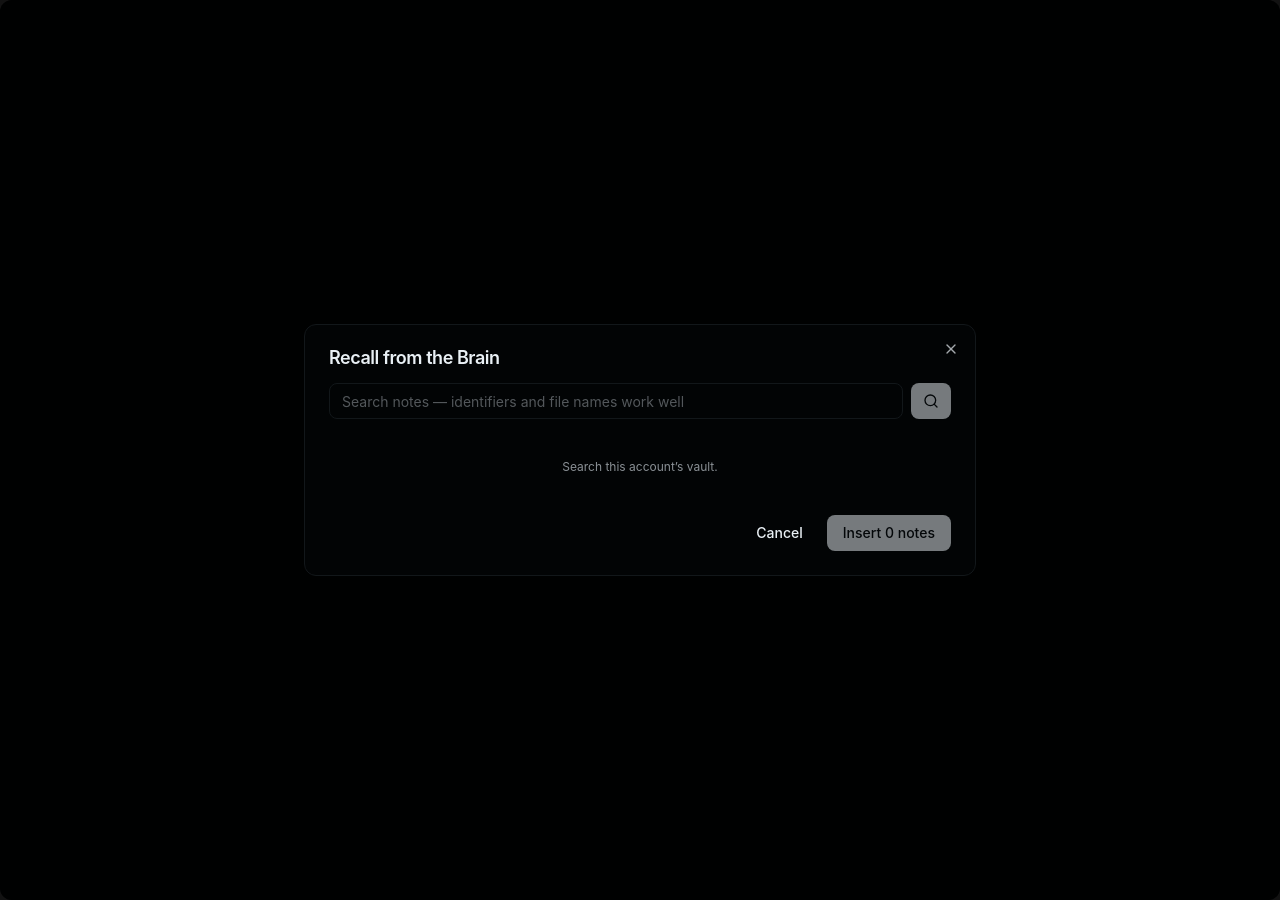
Test: RecallDialog › searches only the account it was given
The width and height of the screenshot is (1280, 900).
In the field named "Search the Brain": (616, 401) [329,383,903,419], type "drain"
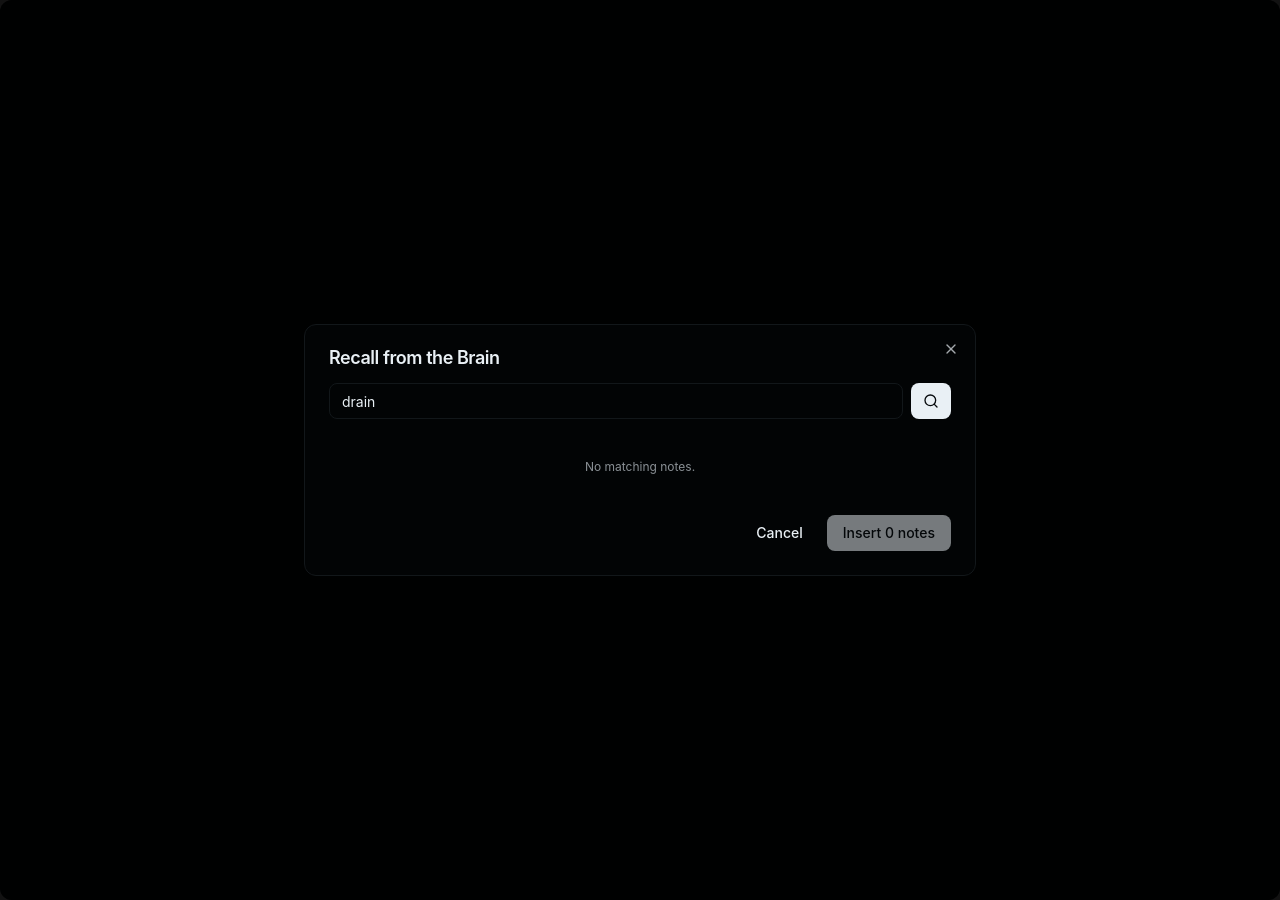
Submit the form named "Search the Brain", box [329,383,951,419]
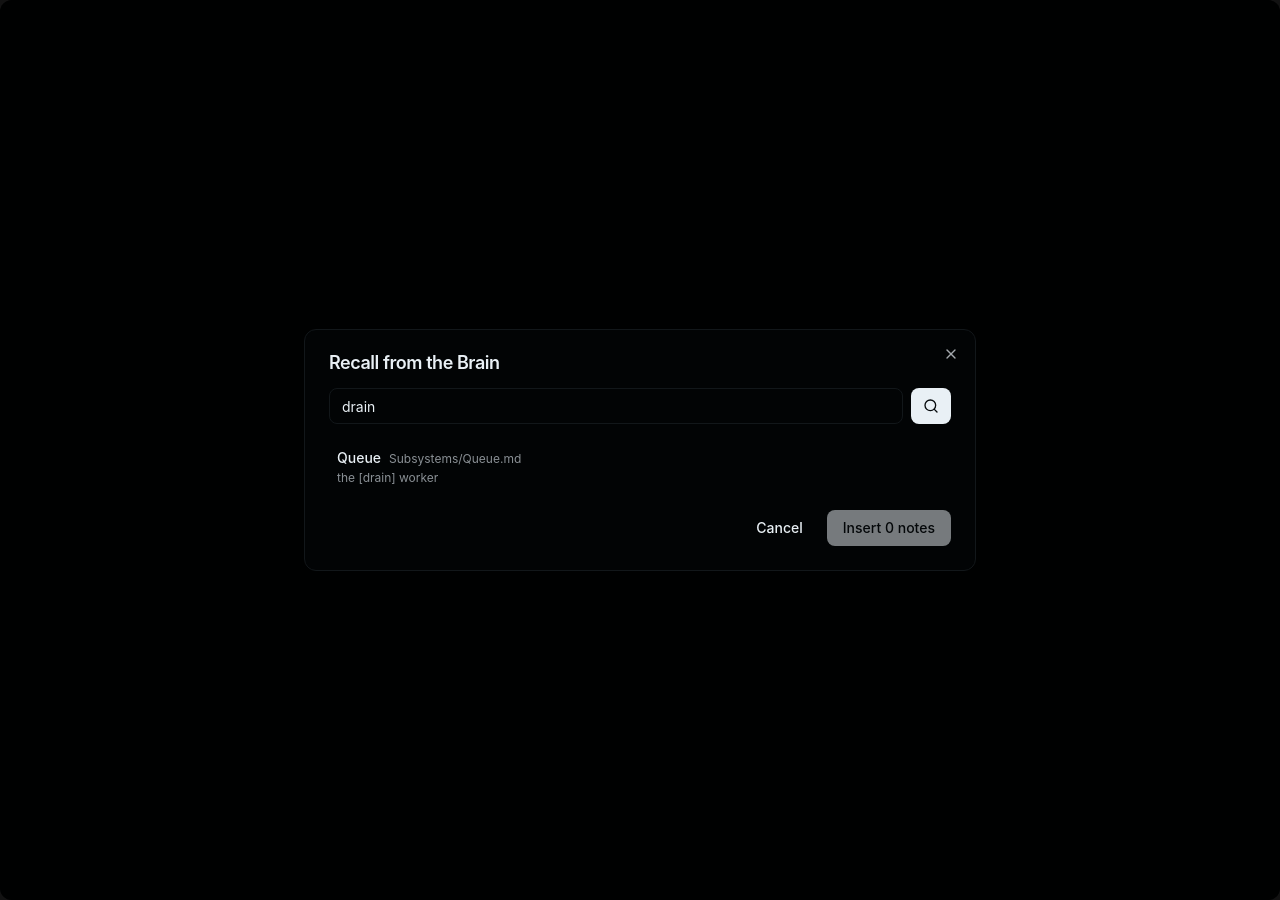
Result: the text "Queue" is shown at [337,448,381,468]
